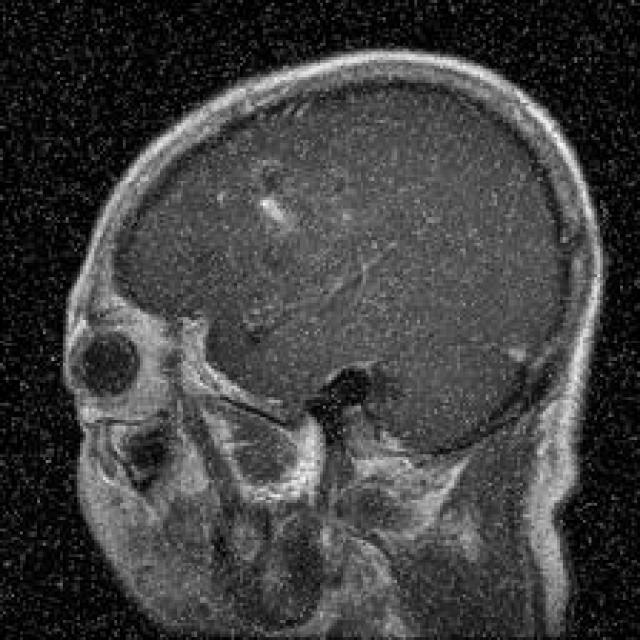glioma_tumor: (205, 135, 370, 335)
